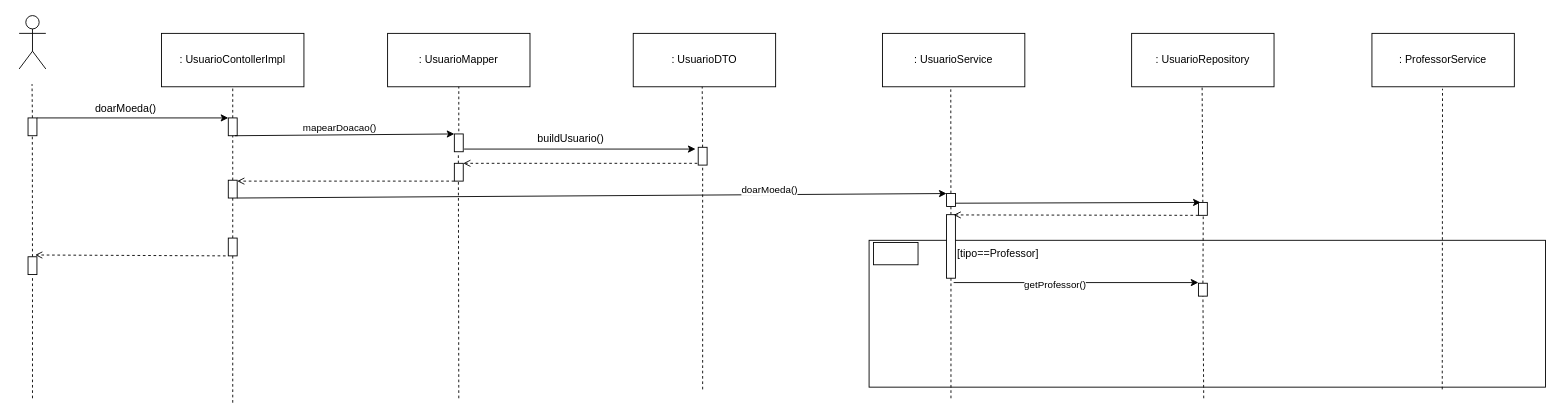
Image size: 1561x419. Some labels were removed from this diagram. The shapes that lost their labels are listed below. From the top down, each one's centre as x and y in pixels, then its label:
(x=32, y=42): usuario
(x=895, y=253): opt
